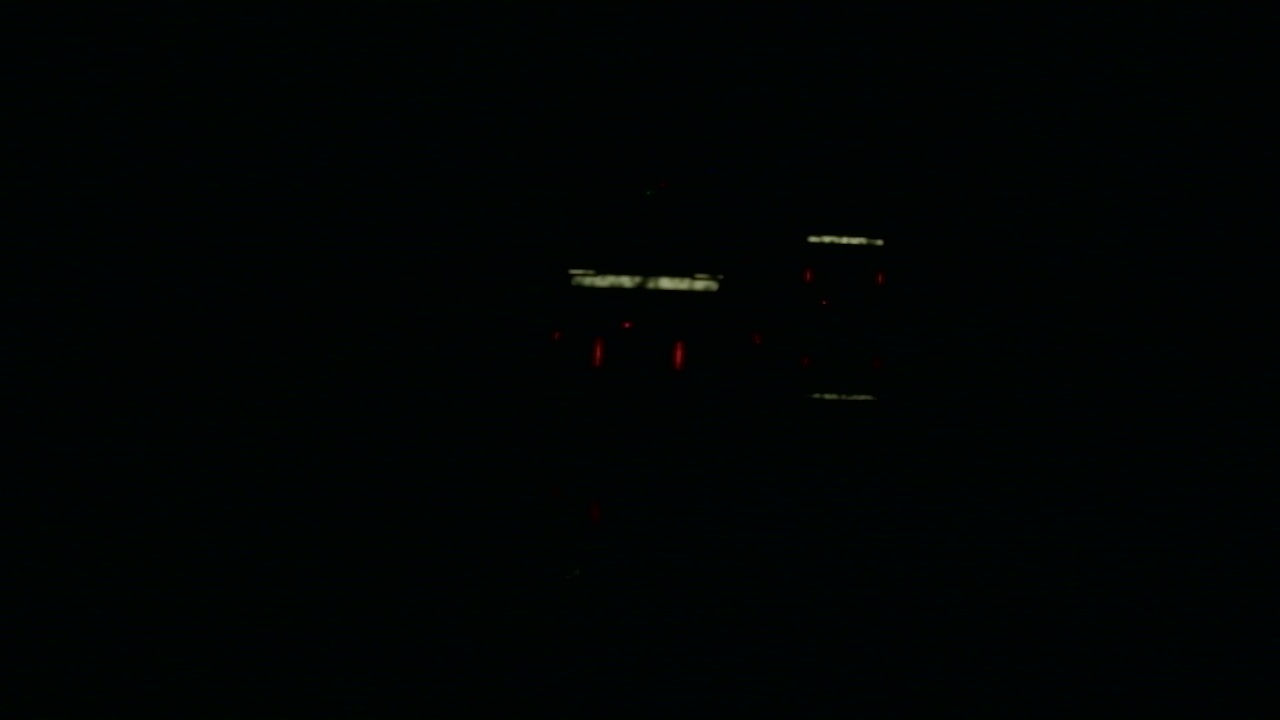lamp: (592, 336, 600, 370), (675, 337, 683, 371), (875, 266, 884, 288), (804, 265, 810, 284)
pair1: (593, 340, 682, 369)
pair2: (805, 269, 884, 286)
